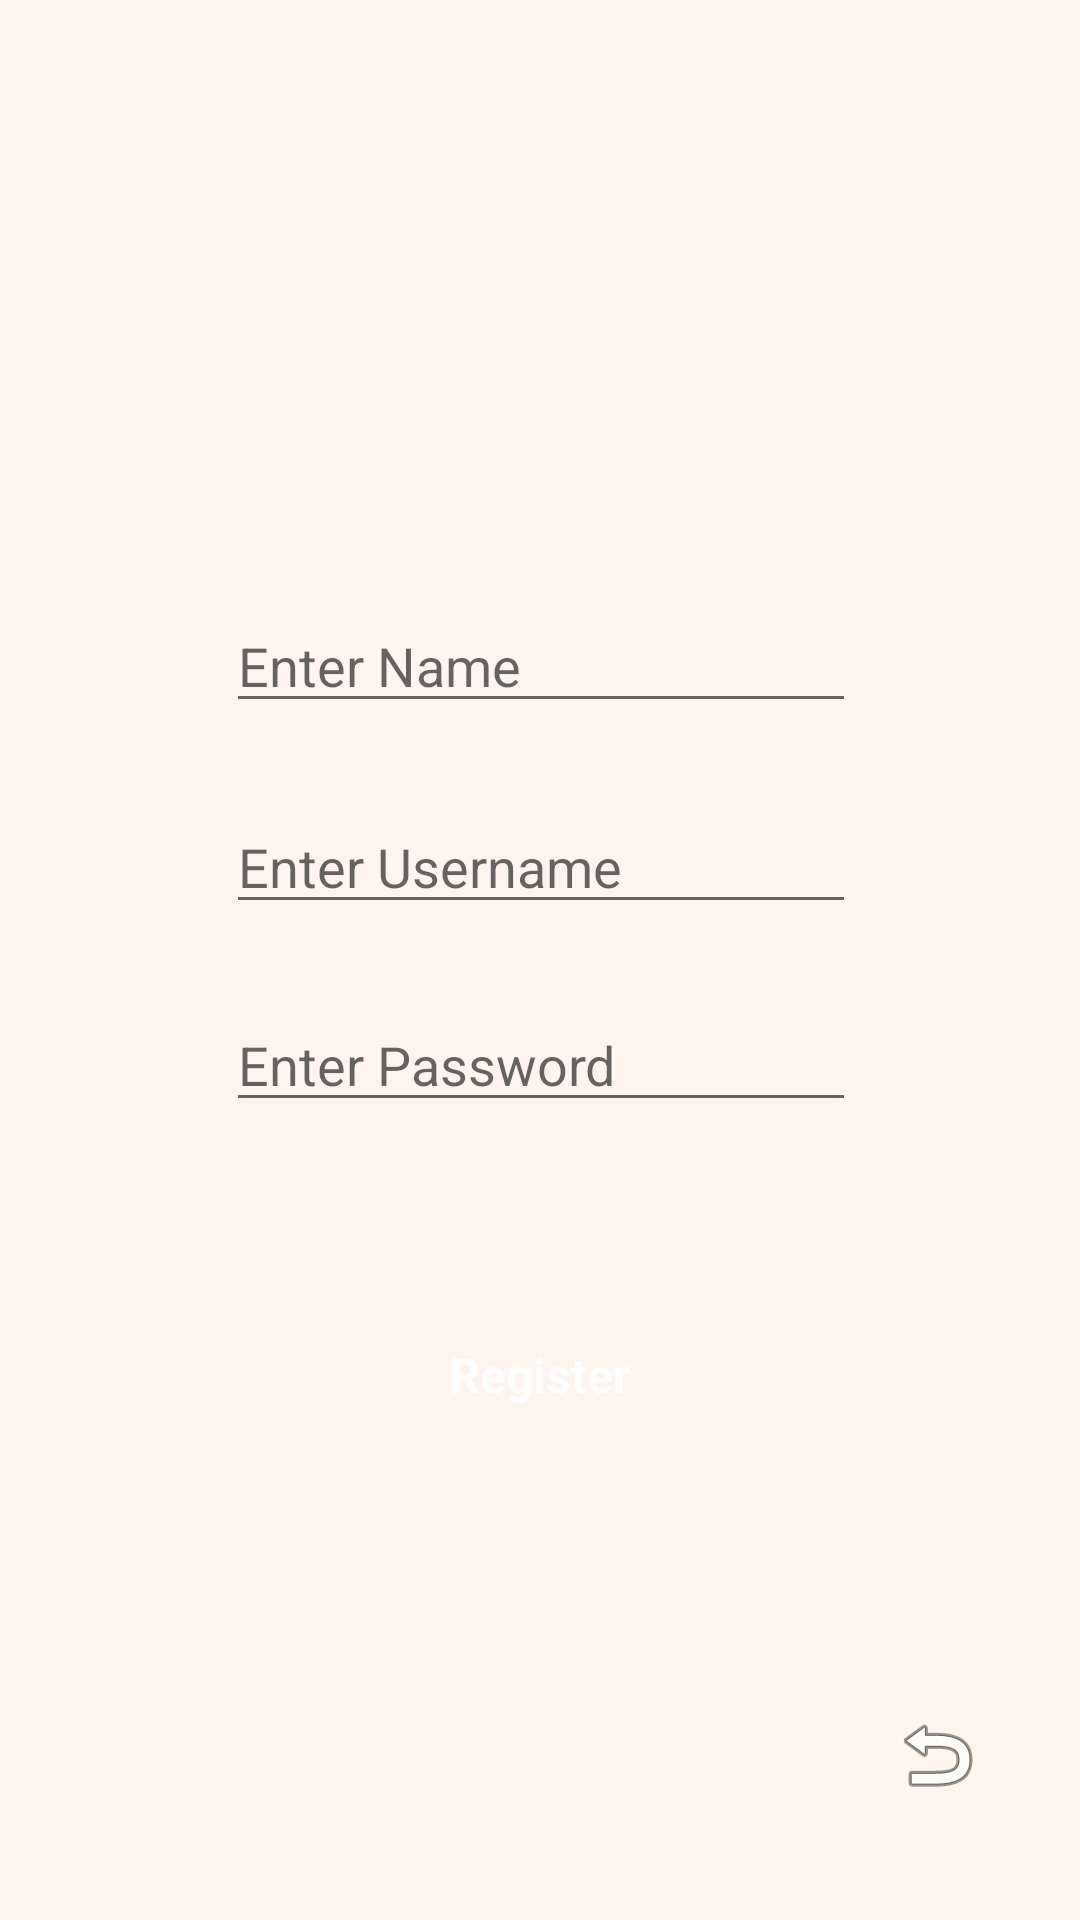

Where to tap for icons on this 1080px×1920px app screen, as (x,y):
revert: (938,1755)
